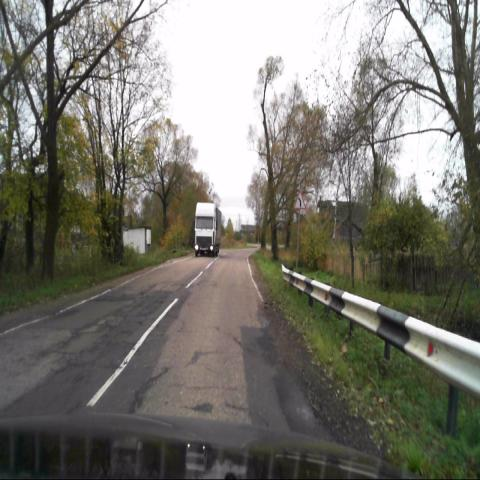1_11_1: (294, 190, 306, 210)
